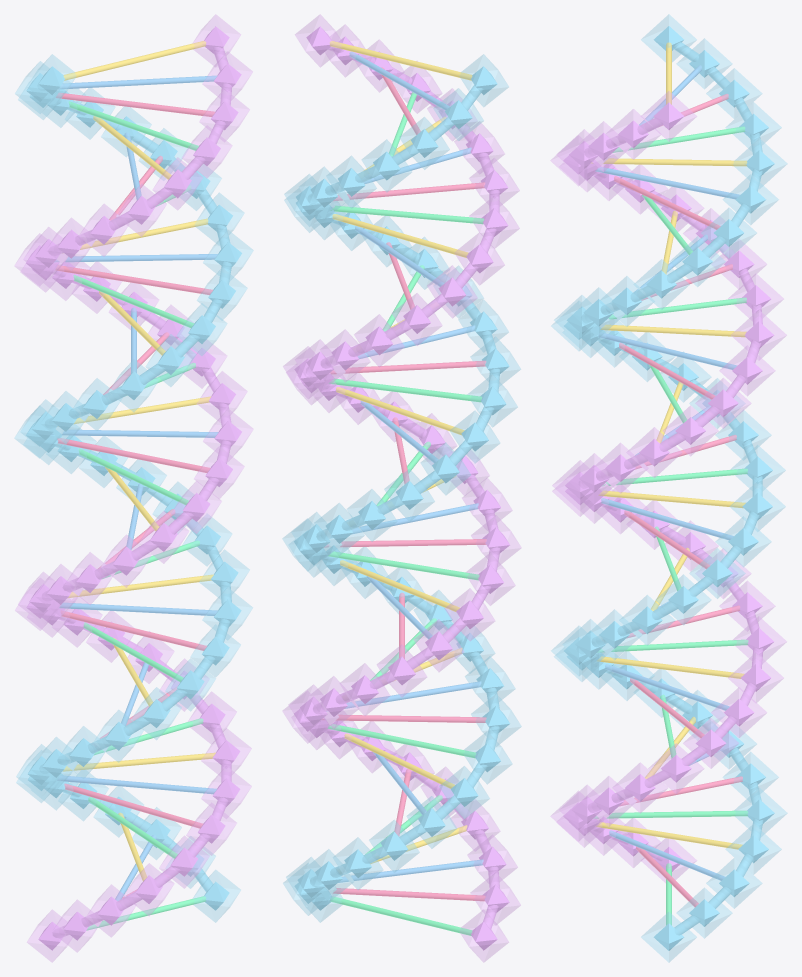
Rendered from fx3d-k-dna.glb.
3 renders of one model, left to right at view 1: azimuth 30°, elevation 25°; view 2: azimuth 150°, elevation 25°; view 3: azimuth 270°, elevation 25°, orthographic. The views are drawn at different scales.
Parts seen in each view (by area): view 1: nhb, nha, nb, na, bbb, bba, rung6, rung37, rung29, rung14, rung38, rung22 (+18 smaller); view 2: nhb, nha, na, nb, bba, bbb, rung24, rung32, rung16, rung1, rung8, rung9 (+18 smaller); view 3: nha, nhb, na, nb, bba, bbb, rung11, rung19, rung3, rung27, rung35, rung34 (+17 smaller).
Boxes of the visible parts, box(x1,y1,x2,y2) form: nhb: box(14, 14, 253, 962); nha: box(14, 54, 253, 922); nb: box(26, 26, 241, 950); na: box(26, 66, 241, 910); bbb: box(36, 47, 232, 938); bba: box(37, 84, 231, 892); rung6: box(57, 775, 216, 794); rung37: box(56, 93, 215, 116); rung29: box(55, 265, 213, 295); rung14: box(59, 602, 218, 615); rung38: box(58, 75, 217, 89); rung22: box(51, 429, 218, 437); nhb: box(282, 14, 521, 962); nha: box(282, 54, 521, 922); na: box(294, 66, 509, 910); nb: box(294, 26, 509, 950); bba: box(305, 85, 500, 886); bbb: box(304, 39, 500, 929); rung24: box(329, 378, 481, 402); rung32: box(330, 205, 484, 224); rung16: box(328, 551, 479, 580); rung1: box(333, 888, 485, 901); rung8: box(327, 724, 475, 758); rung9: box(321, 714, 486, 722); nha: box(551, 14, 787, 962); nhb: box(550, 91, 786, 882); na: box(564, 26, 774, 950); nb: box(563, 102, 774, 871); bba: box(576, 42, 763, 935); bbb: box(575, 118, 763, 861); rung11: box(597, 656, 744, 678); rung19: box(598, 490, 745, 508); rung3: box(596, 822, 742, 849); rung27: box(600, 324, 746, 337); rung35: box(591, 158, 747, 166); rung34: box(595, 167, 740, 199).
Bounding box in the file's own units: 0.184 × 0.744 × 0.1839.
